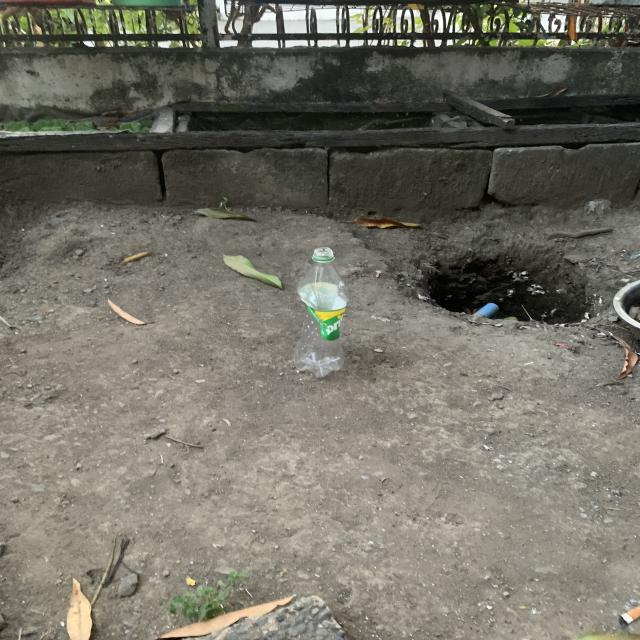Bottle: (294, 247, 349, 378)
